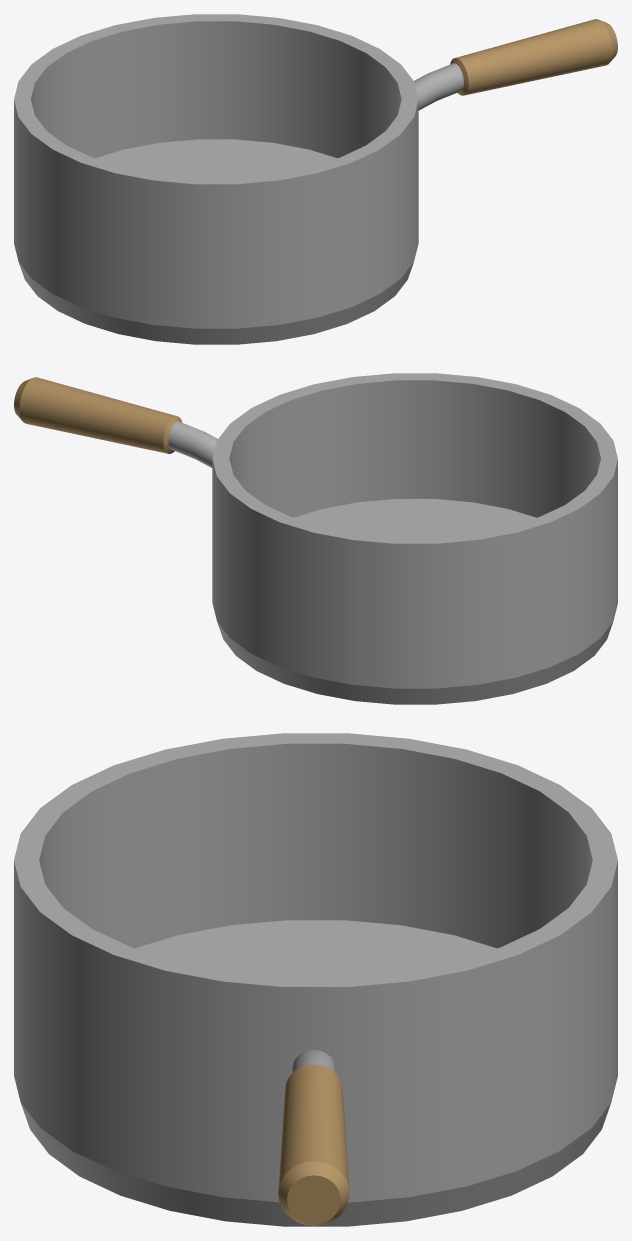
File: SmallPot.FBX
3 views of the same model, one above another, from view 1: azimuth 30°, elevation 25°; view 2: azimuth 150°, elevation 25°; view 3: azimuth 270°, elevation 25° (orthographic). The views are drawn at different scales.
Parts seen in each view (by area): view 1: SmallPot; view 2: SmallPot; view 3: SmallPot.
Part boxes in pixels (<box>): SmallPot: <box>14,14,617,344</box>; SmallPot: <box>14,373,617,704</box>; SmallPot: <box>14,733,617,1226</box>.
Bounding box in the file's own units: 38.51 × 10.61 × 23.83.
